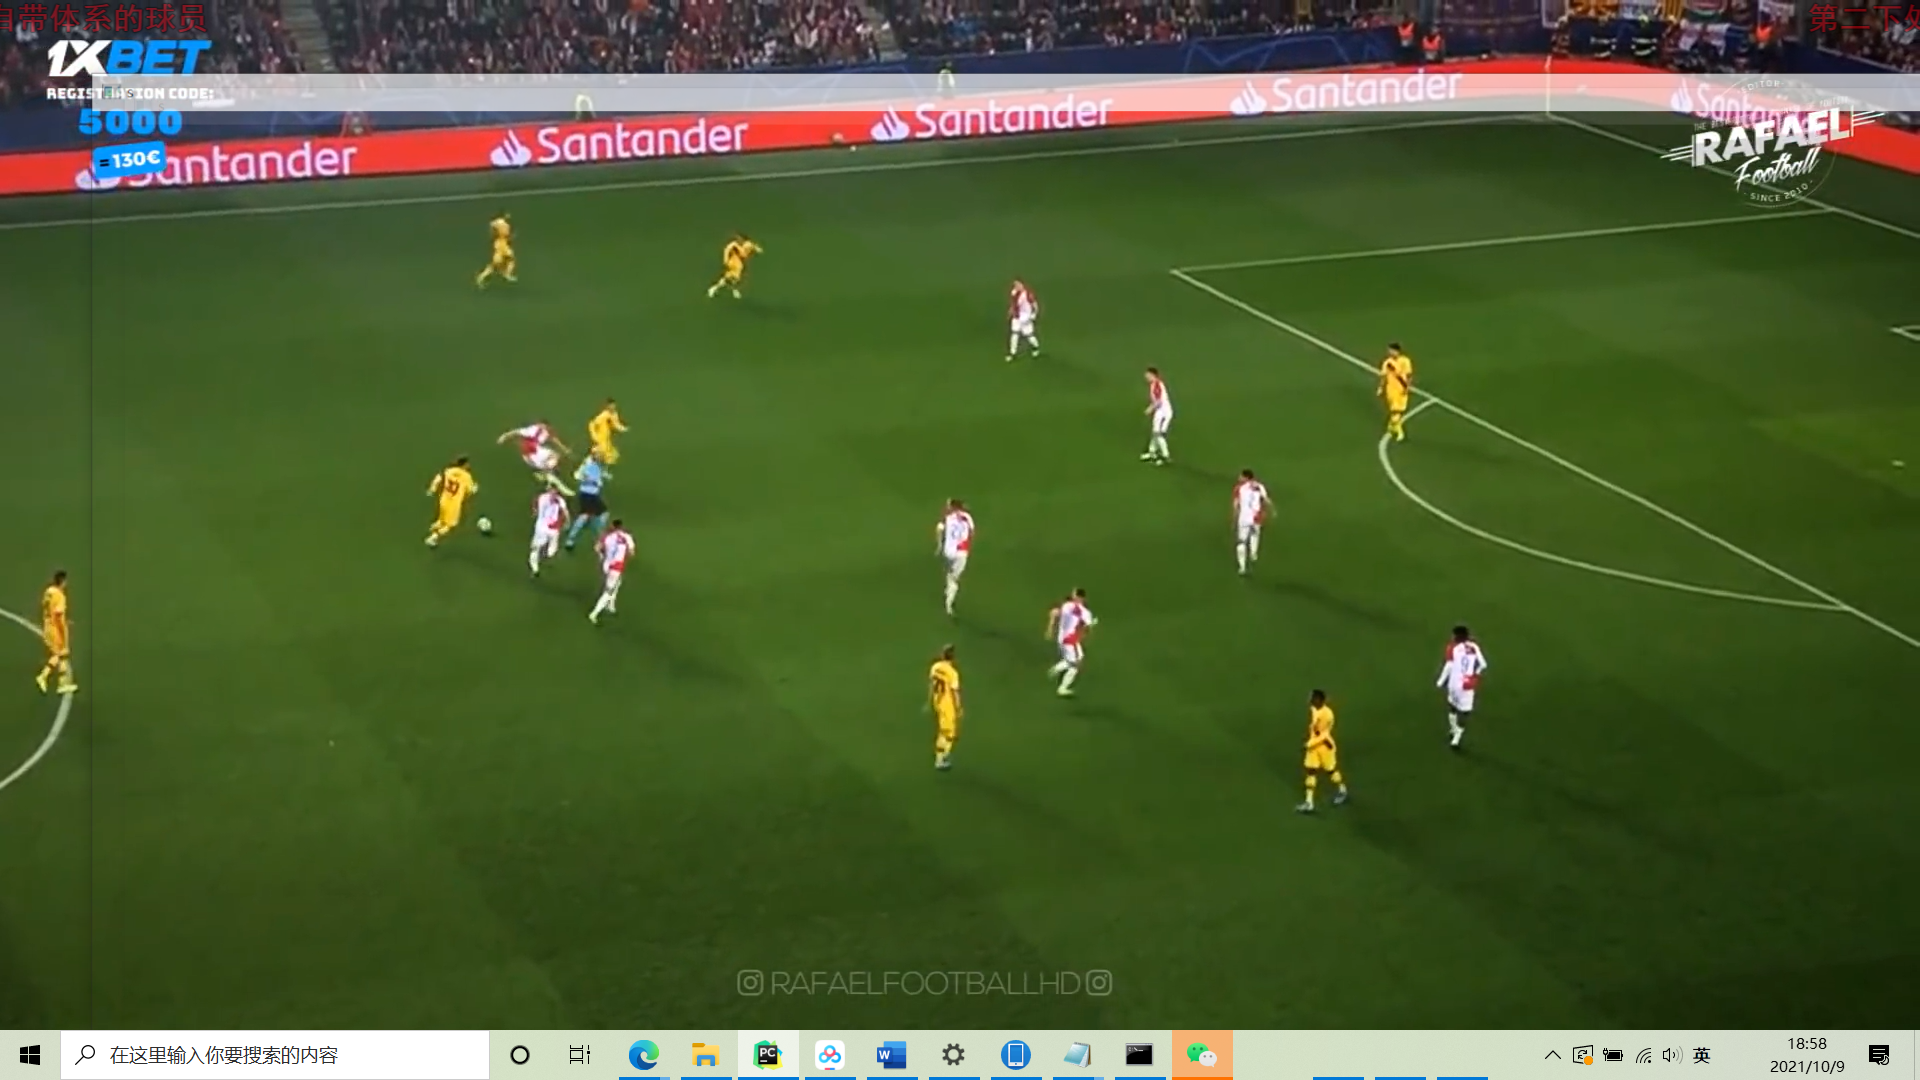ft: (475, 516, 493, 535)
